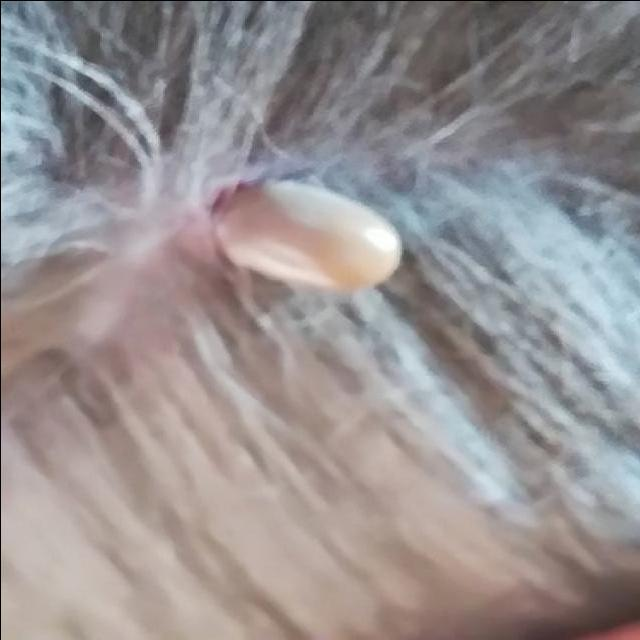Ixodes Ricinus-F-Fed: (212, 178, 403, 291)
